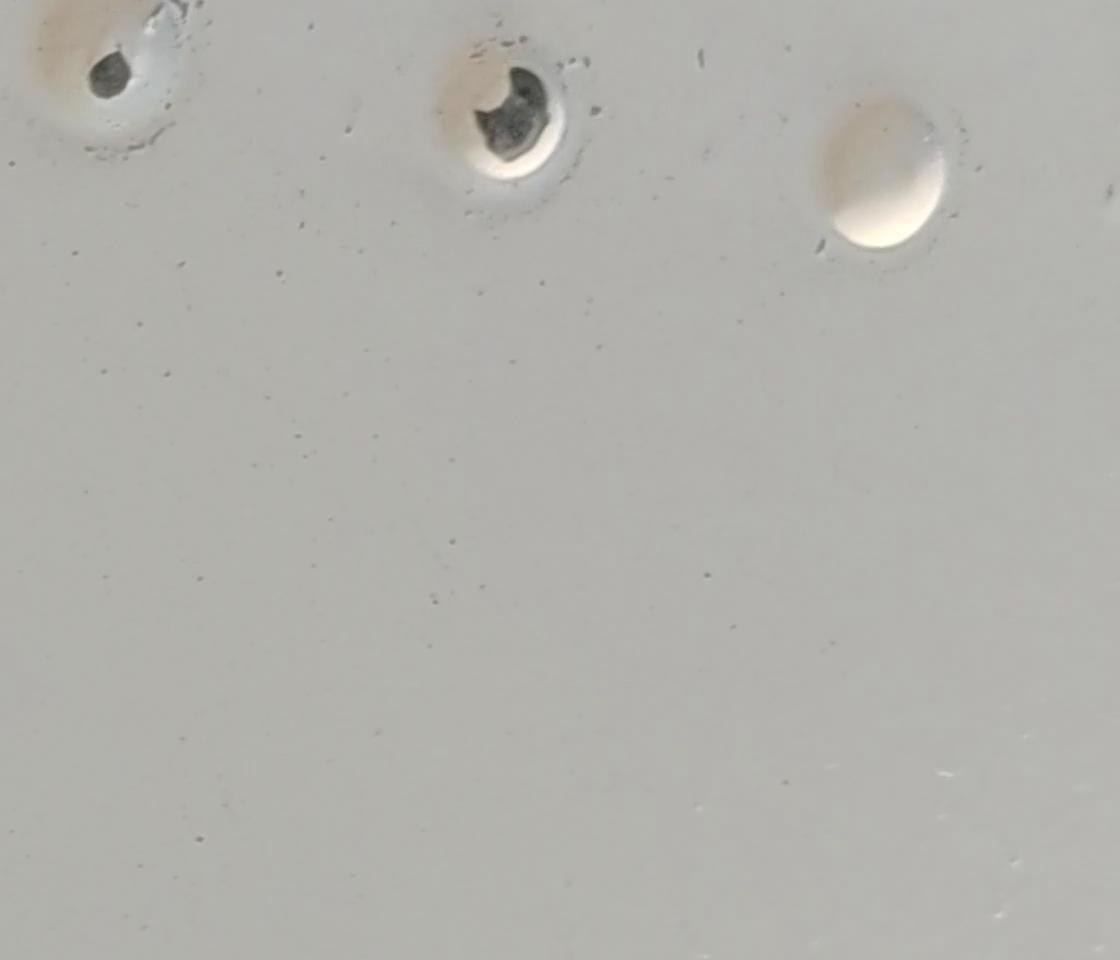paint_peel: (472, 62, 558, 166), (82, 44, 135, 106)
